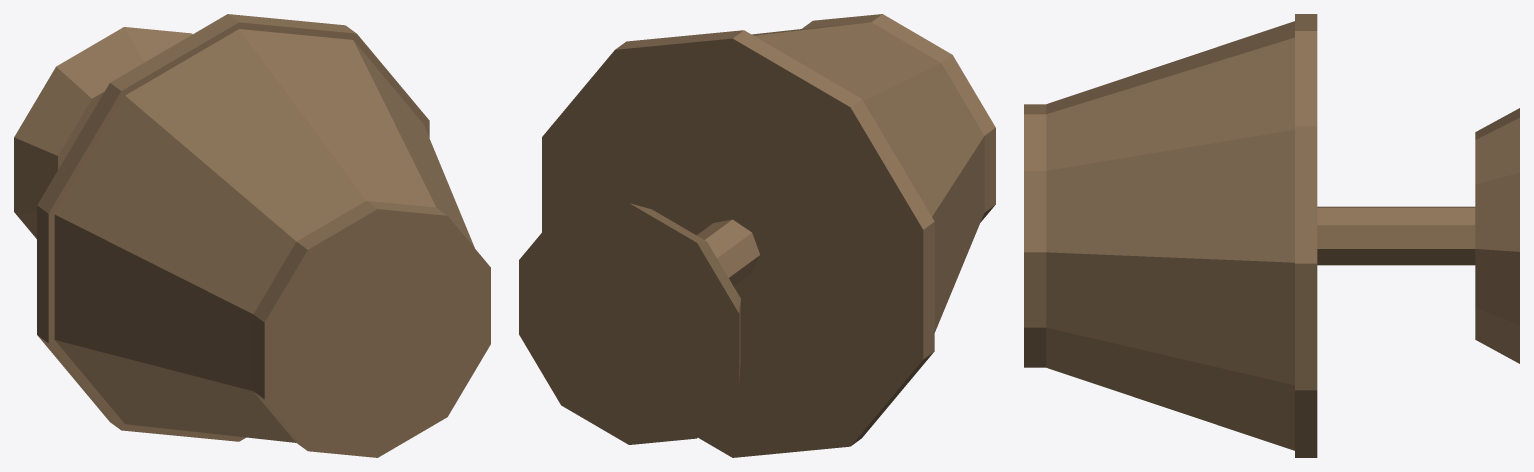
Rendered from table_lamp_red_gold.obj.
The picture shows the model from 3 angles, left to right: view 1: azimuth 30°, elevation 25°; view 2: azimuth 150°, elevation 25°; view 3: azimuth 270°, elevation 25°; orthographic projection. The views are drawn at different scales.
Visible parts, largest first — view 1: table_lamp_red_gold; view 2: table_lamp_red_gold; view 3: table_lamp_red_gold.
Boxes of the visible parts, box(x1,y1,x2,y2) form: table_lamp_red_gold: box(14, 14, 490, 457); table_lamp_red_gold: box(519, 14, 995, 457); table_lamp_red_gold: box(1024, 14, 1519, 457).
Bounding box in the file's own units: 0.2146 × 0.2257 × 0.2474.
1 material, 1 textured.
